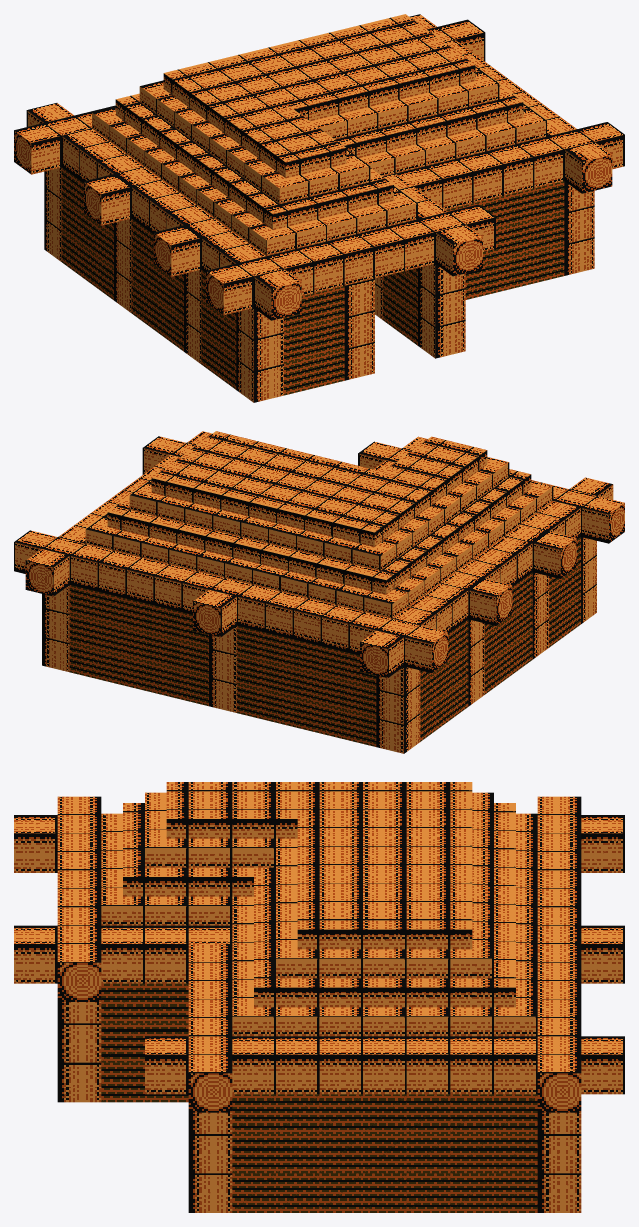
The model's file is building3.fbx.
3 renders of one model, top to bottom at view 1: azimuth 30°, elevation 25°; view 2: azimuth 150°, elevation 25°; view 3: azimuth 270°, elevation 25°, orthographic. The views are drawn at different scales.
Parts seen in each view (by area): view 1: New_World__-4_-60_-12_to_12_319_1; view 2: New_World__-4_-60_-12_to_12_319_1; view 3: New_World__-4_-60_-12_to_12_319_1.
Part boxes in pixels (<box>): New_World__-4_-60_-12_to_12_319_1: <box>14,14,624,402</box>; New_World__-4_-60_-12_to_12_319_1: <box>14,431,624,753</box>; New_World__-4_-60_-12_to_12_319_1: <box>14,782,624,1212</box>.
Size of the model in its own units: 1500 by 600 by 1400.
